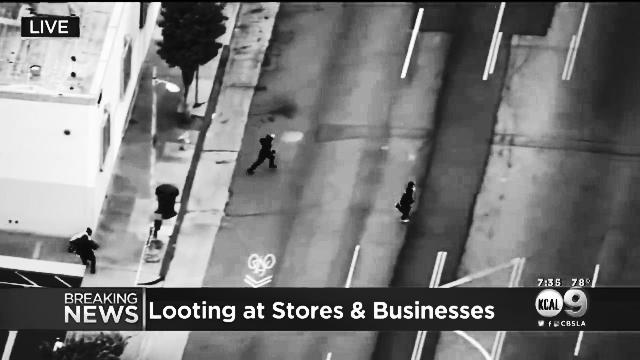berlari: (242, 130, 282, 176), (393, 175, 421, 225)
